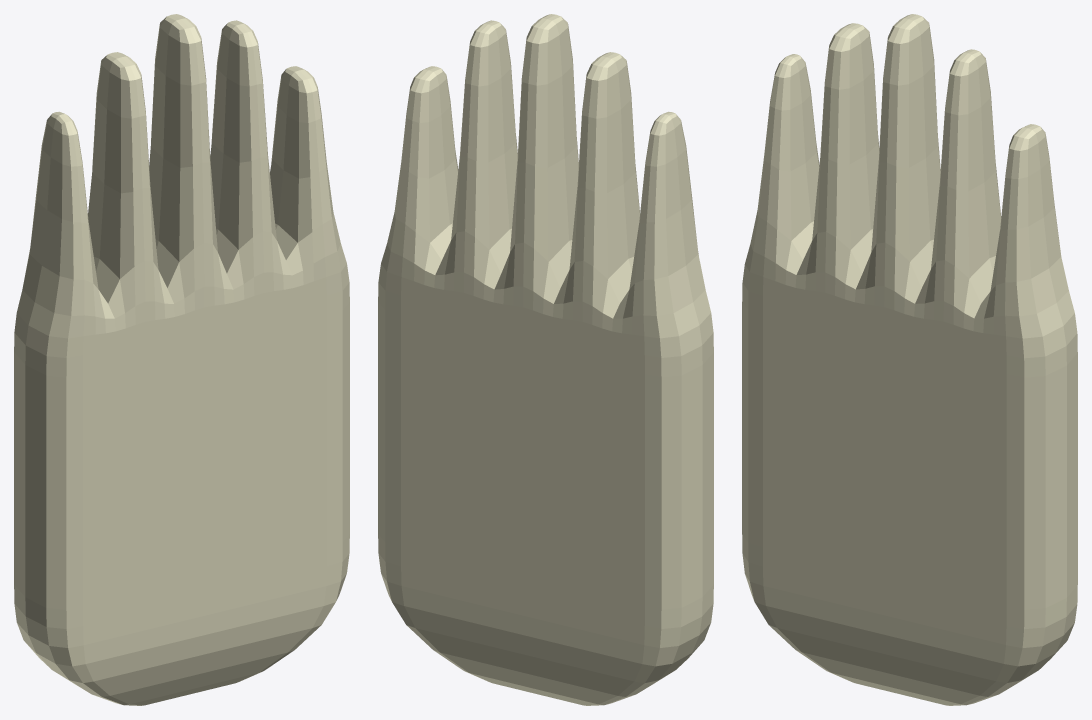
File: hand.fbx
3 views of the same model, side by side, from view 1: azimuth 30°, elevation 25°; view 2: azimuth 150°, elevation 25°; view 3: azimuth 330°, elevation 25° (orthographic).
Visible parts, largest first — view 1: Cube; view 2: Cube; view 3: Cube.
Part boxes in pixels (x1,y1,x2,y2): Cube: (14,14,349,705); Cube: (378,14,713,705); Cube: (742,14,1077,705).
Bounding box in the file's own units: 249 × 510 × 66.56.
